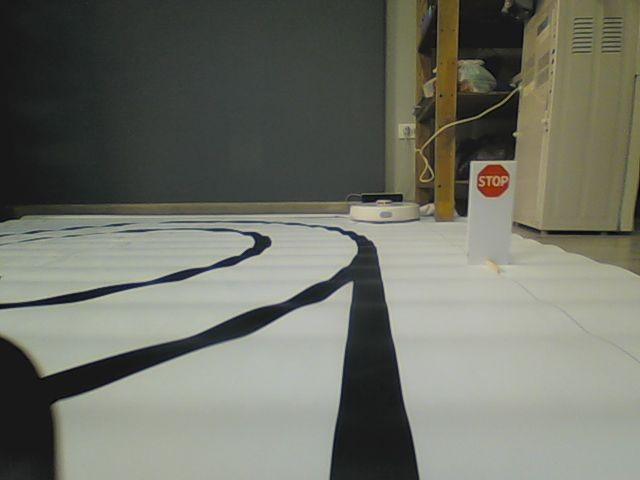Stop: (476, 163, 511, 199)
